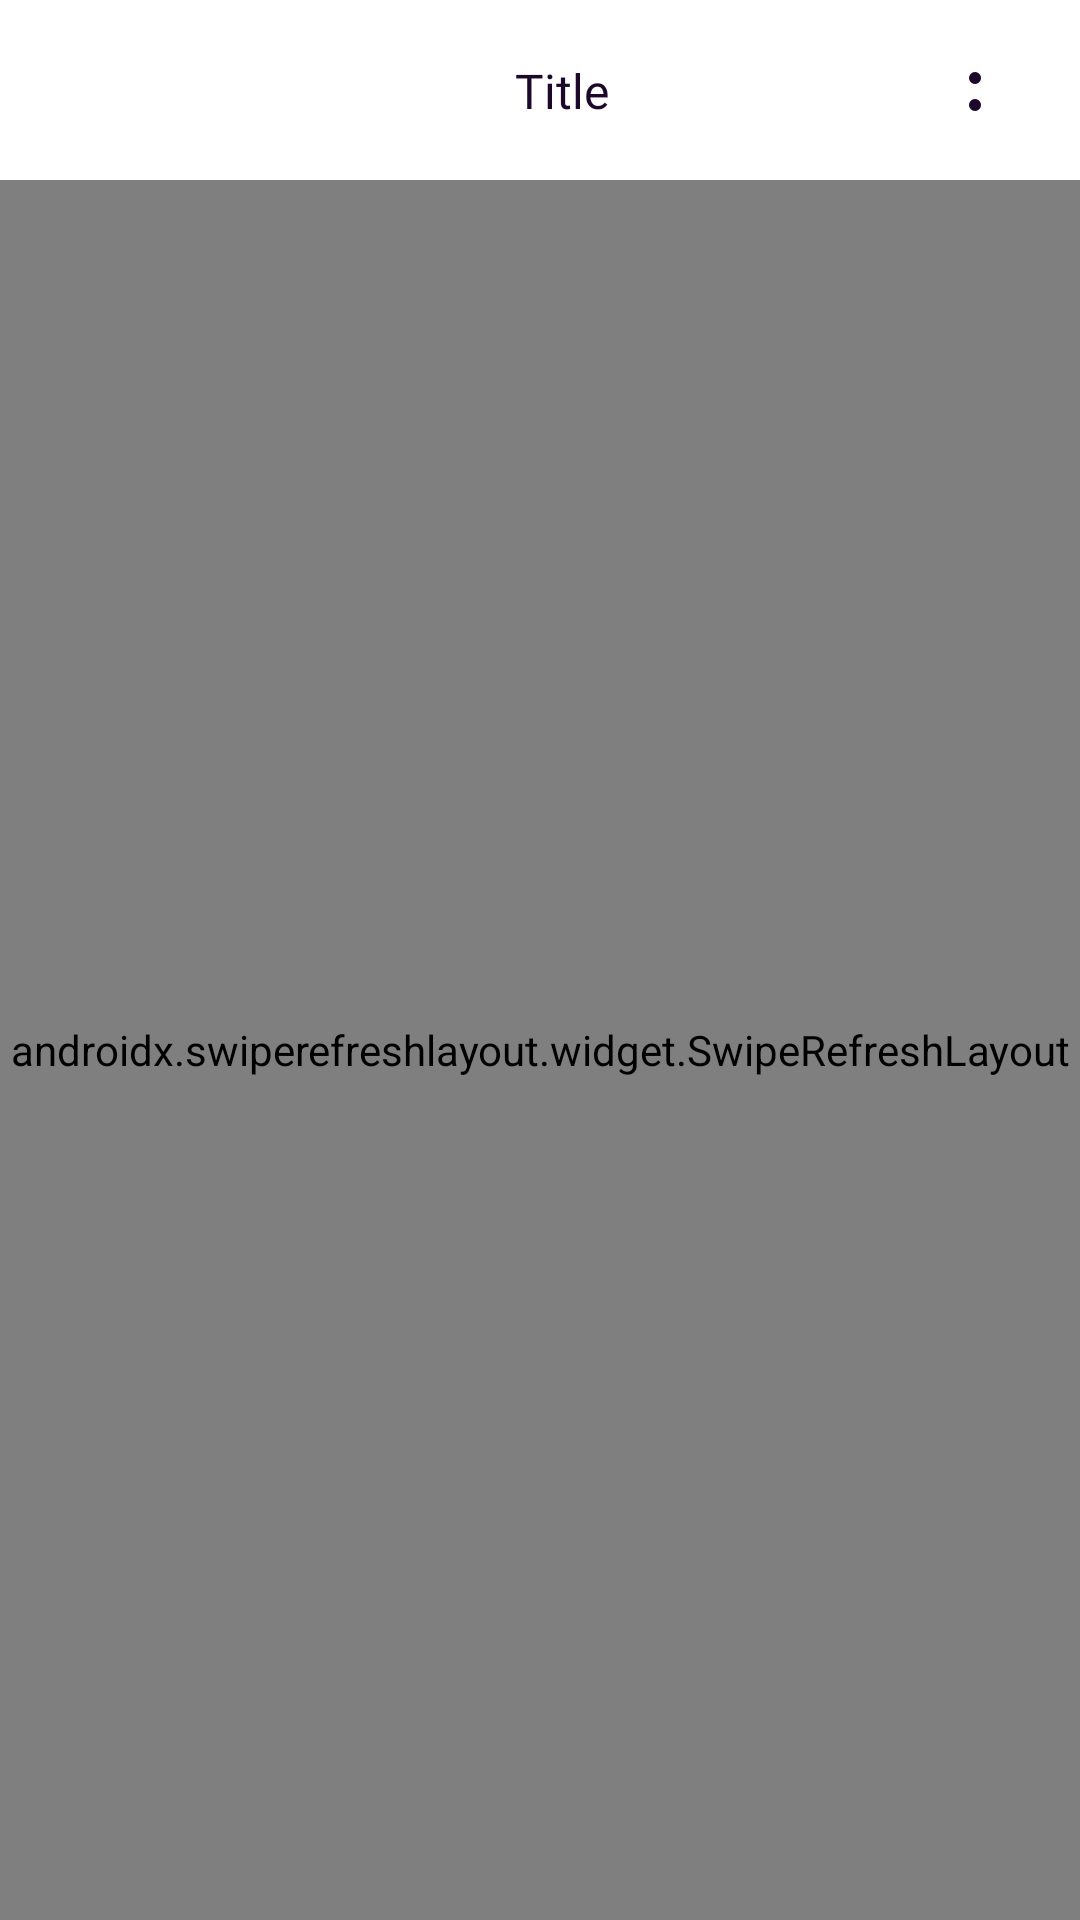

Named icons in this screenshot (1080px×1920px) and their bounding boxes, [left=x1, top=y1, right=x2, bottom=y2]:
actions: [left=969, top=72, right=981, bottom=111]
